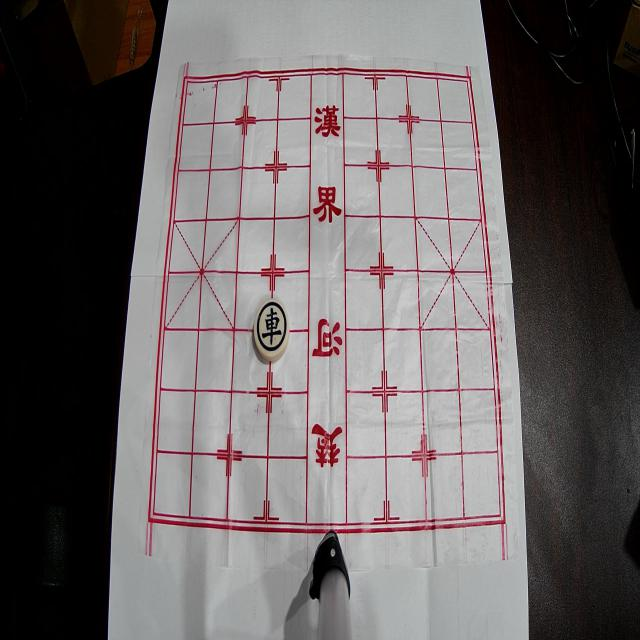black-chariot: (253, 299, 290, 361)
